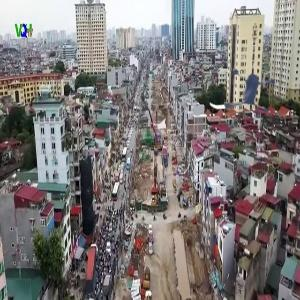drone: (205, 47, 286, 128)
